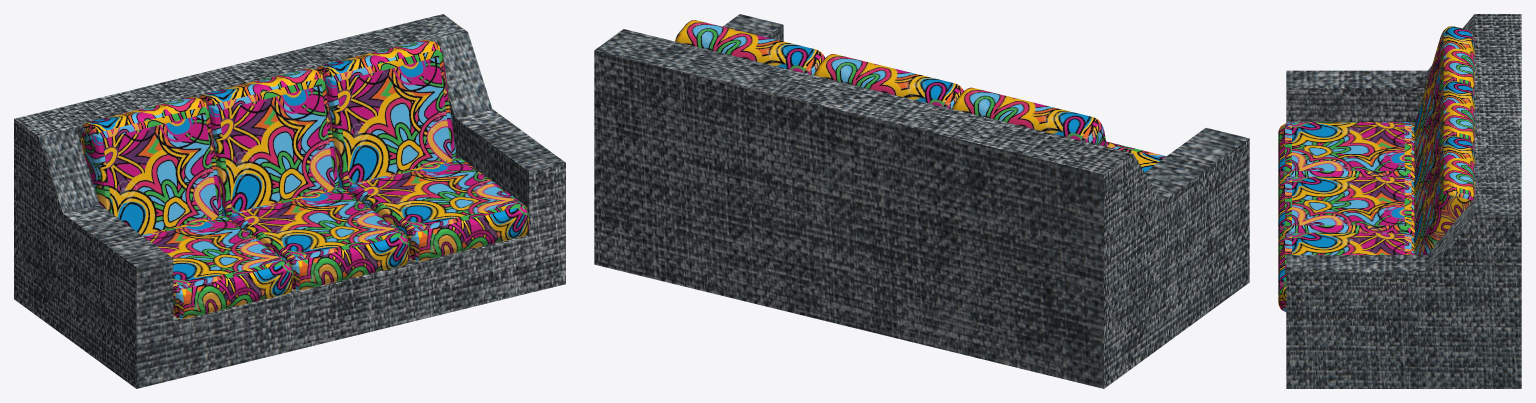
The model's file is Sofa.fbx.
3 renders of one model, left to right at view 1: azimuth 30°, elevation 25°; view 2: azimuth 150°, elevation 25°; view 3: azimuth 270°, elevation 25°, orthographic. The views are drawn at different scales.
Visible parts, largest first — view 1: pCube1, pCube14, pCube13, pCube4, pCube17, pCube16, pCube15; view 2: pCube1, pCube4, pCube14, pCube13, pCube15; view 3: pCube1, pCube16, pCube15, pCube14, pCube17, pCube13, pCube4.
Boxes of the visible parts, x1,y1,x2,y2 form: pCube1: (14, 14, 565, 388); pCube14: (316, 40, 456, 190); pCube13: (199, 68, 339, 217); pCube4: (81, 97, 223, 234); pCube17: (347, 158, 528, 261); pCube16: (228, 187, 409, 290); pCube15: (142, 216, 293, 319); pCube1: (594, 14, 1249, 388); pCube4: (952, 87, 1106, 146); pCube14: (675, 20, 824, 75); pCube13: (814, 54, 963, 108); pCube15: (1106, 141, 1166, 172); pCube1: (1286, 14, 1521, 388); pCube16: (1278, 176, 1414, 241); pCube15: (1278, 122, 1414, 185); pCube14: (1414, 135, 1474, 254); pCube17: (1278, 232, 1414, 311); pCube13: (1414, 80, 1474, 232); pCube4: (1414, 26, 1474, 176).
Bounding box in the file's own units: 20.52 × 8.68 × 10.48.
